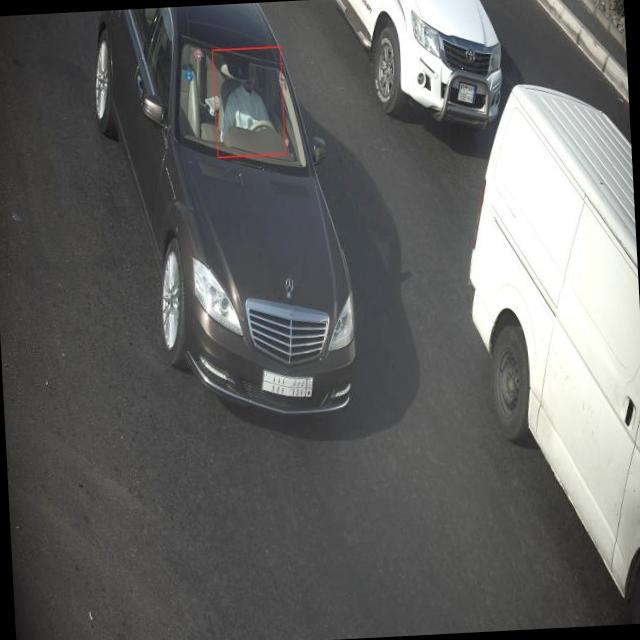person_without_seatbelt: (219, 70, 284, 155)
